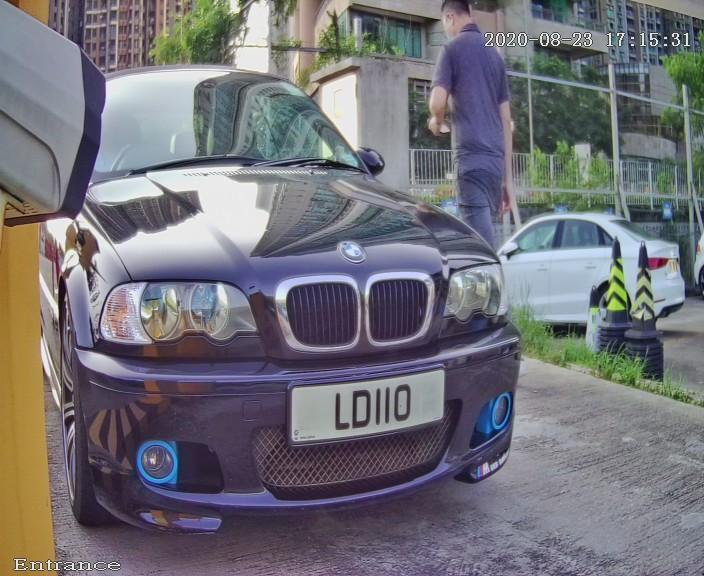Car: (16, 16, 560, 576)
License Plate: (262, 350, 464, 469)
